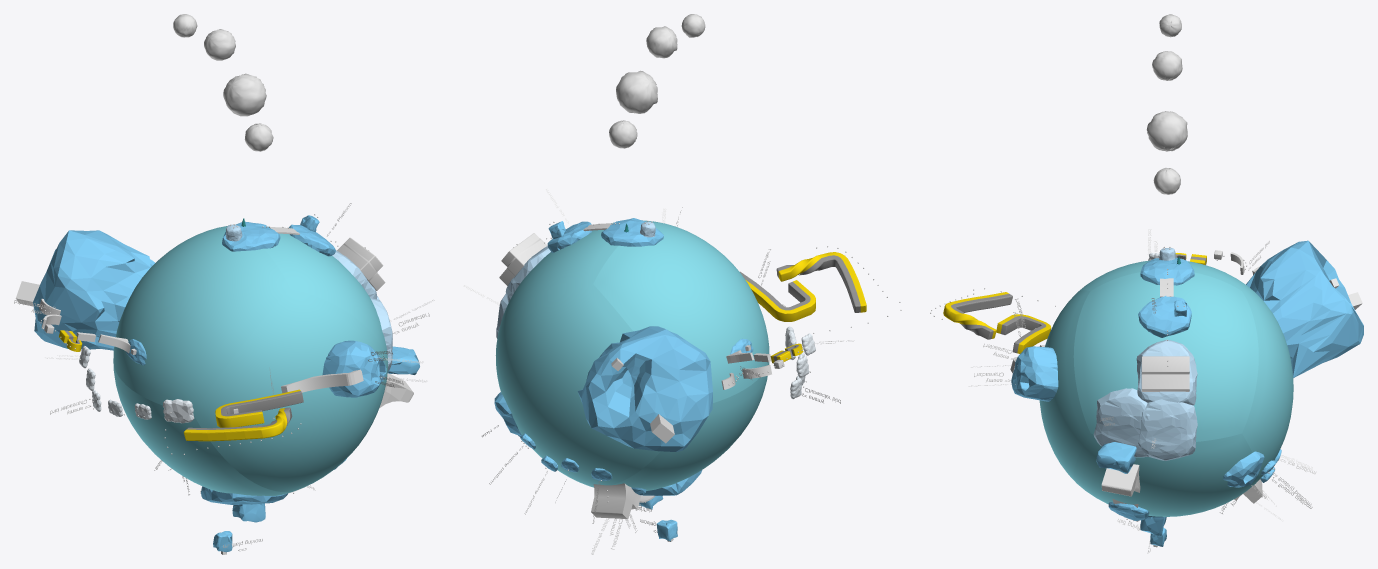
Rendered from nivel 1.FBX.
3 renders of one model, left to right at view 1: azimuth 30°, elevation 25°; view 2: azimuth 150°, elevation 25°; view 3: azimuth 270°, elevation 25°, orthographic. The views are drawn at different scales.
Visible parts, largest first — view 1: PROP_Liquid01_1, PROP_Liquid01_2, PROP_Ice_FlyingIsland016, PROP_Liquid01_6, PROP_Liquid01_3, PROP_Ice_FlyingIsland013, Sphere002, Box007, PROP_Ice_FlyingIsland01, Box004, Box005, Box010 (+11 smaller); view 2: PROP_Liquid01_4, PROP_Liquid01_2, PROP_Ice_FlyingIsland016, PROP_Liquid01_6, PROP_Liquid01_3, Sphere002, Cylinder003, PROP_Ice_FlyingIsland01, Box004, Box008, Box007, Box009 (+5 smaller); view 3: PROP_Liquid01_3, PROP_Ice_FlyingIsland016, PROP_Liquid01_5, PROP_Liquid01_4, PROP_Liquid01_1, PROP_Ice_FloorS007, PROP_Ice_FloorS008, PROP_Ice_FlyingIsland013, Box004, PROP_Ice_FloorS005, PROP_Ice_FlyingIsland003, Sphere002 (+11 smaller).
Boxes of the visible parts, x1,y1,x2,y2 form: PROP_Liquid01_1: (193,288,387,492); PROP_Liquid01_2: (113,227,290,413); PROP_Ice_FlyingIsland016: (33,230,154,350); PROP_Liquid01_6: (113,363,289,495); PROP_Liquid01_3: (219,226,387,365); PROP_Ice_FlyingIsland013: (322,340,386,397); Sphere002: (223,73,266,116); Box007: (183,408,287,441); PROP_Ice_FlyingIsland01: (222,221,280,251); Box004: (337,237,385,290); Box005: (281,369,363,393); Box010: (221,391,303,416); PROP_Liquid01_4: (496,284,660,486); PROP_Liquid01_2: (593,223,769,402); PROP_Ice_FlyingIsland016: (577,326,712,451); PROP_Liquid01_6: (593,362,769,490); PROP_Liquid01_3: (495,220,660,360); Sphere002: (616,70,657,113); Cylinder003: (591,483,641,519); PROP_Ice_FlyingIsland01: (601,218,663,246); Box004: (499,233,547,285); Box008: (745,280,815,321); Box007: (778,252,866,312); Box009: (776,255,860,312); PROP_Liquid01_3: (1073,272,1258,441); PROP_Ice_FlyingIsland016: (1246,240,1363,377); PROP_Liquid01_5: (1073,433,1258,516); PROP_Liquid01_4: (1242,290,1293,481); PROP_Liquid01_1: (1039,290,1090,480); PROP_Ice_FloorS007: (1138,399,1197,460); PROP_Ice_FloorS008: (1093,388,1149,457); PROP_Ice_FlyingIsland013: (1011,346,1058,401); Box004: (1141,356,1189,391); PROP_Ice_FloorS005: (1136,340,1197,405); PROP_Ice_FlyingIsland003: (1138,296,1191,337); Sphere002: (1146,111,1187,151).
Size of the model in its own units: 12379 by 16388 by 12477.
